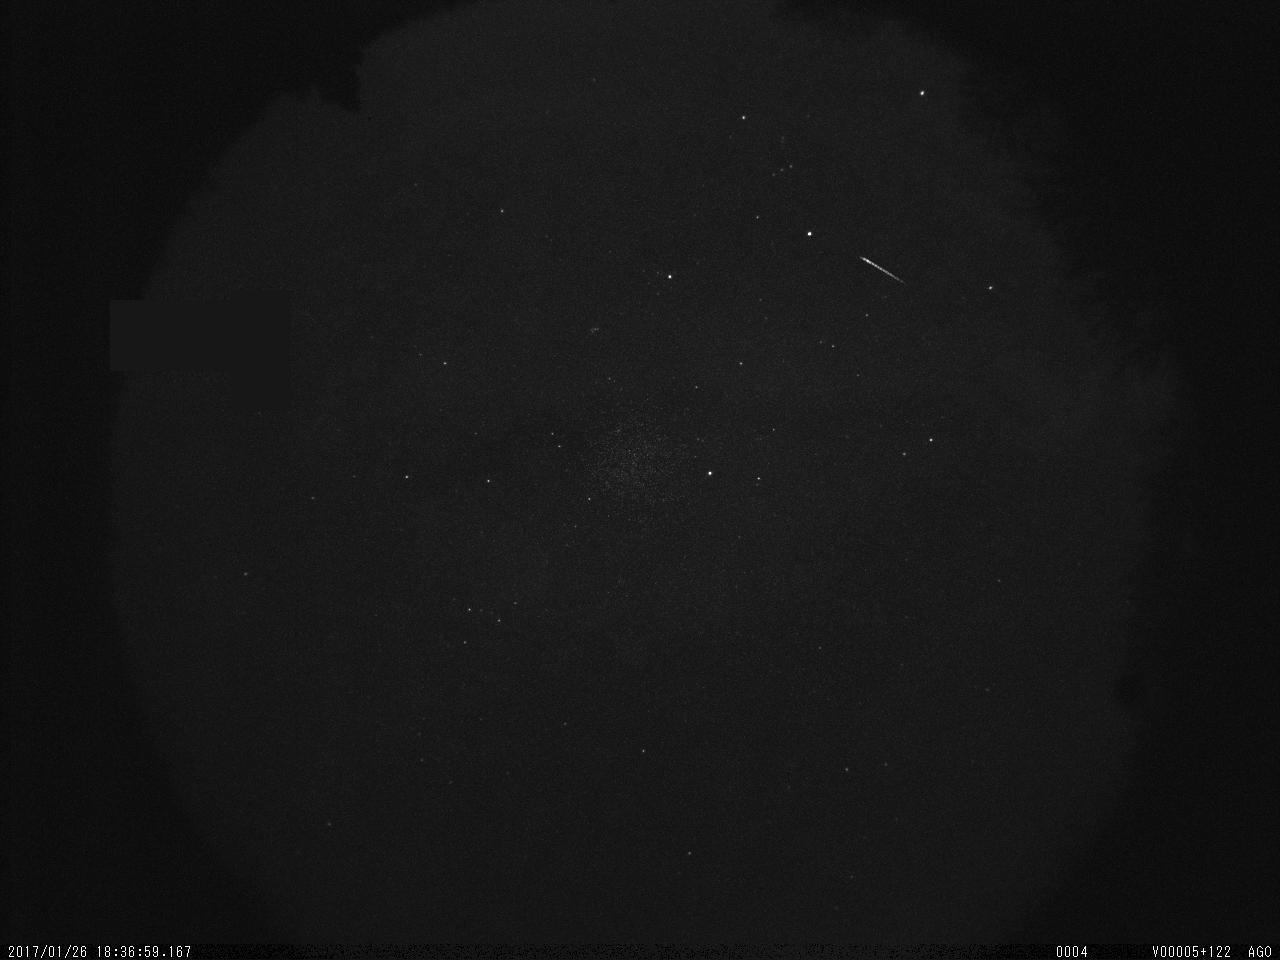meteor: (856, 246, 917, 295)
